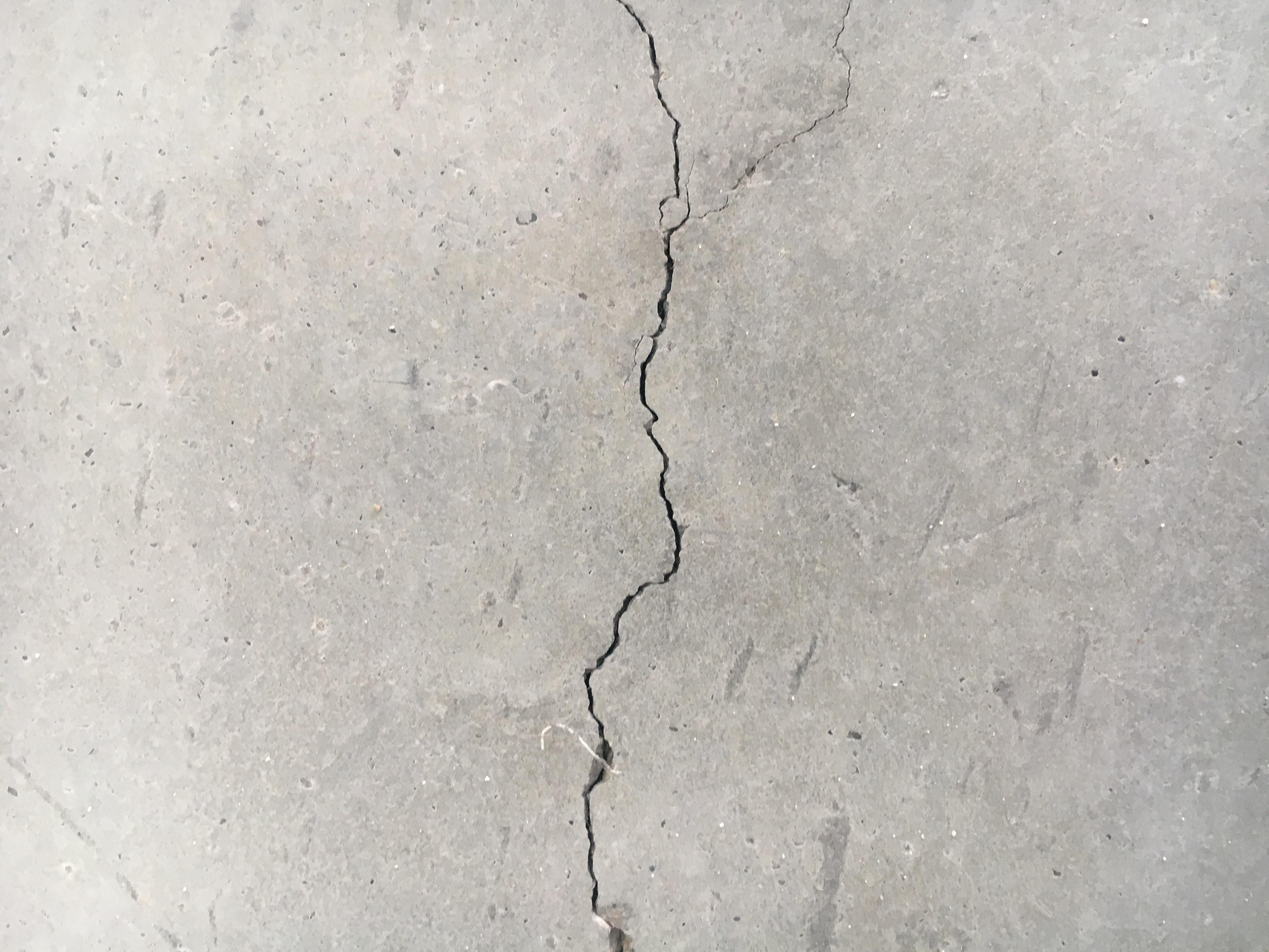Hairline-Crack: (722, 0, 854, 204)
Vertical Crack: (573, 0, 714, 946)
